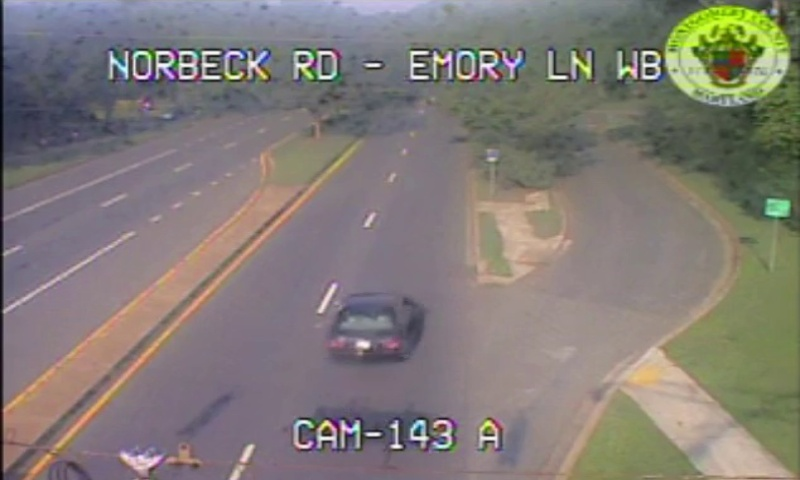car: (328, 294, 412, 355)
